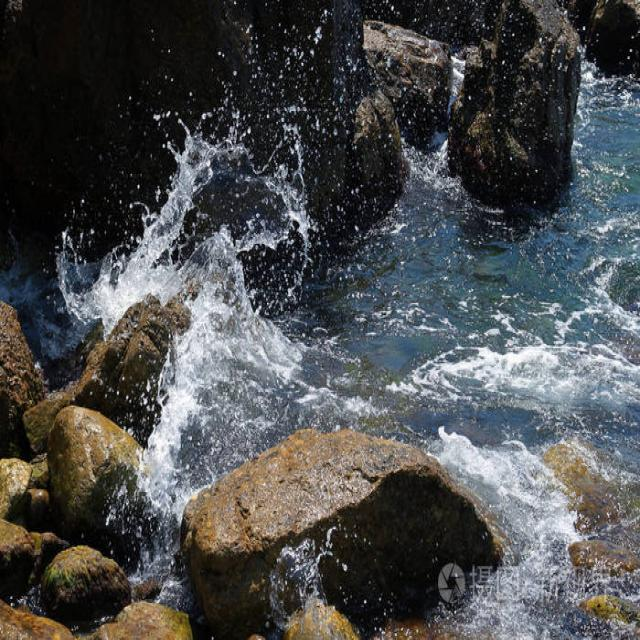reef: (91, 313, 485, 605), (380, 35, 607, 178)
